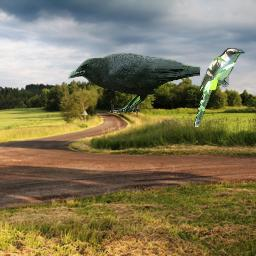Crow: (68, 53, 201, 115)
Cuckoo: (194, 48, 245, 127)
